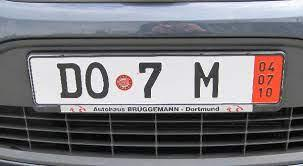7: (136, 60, 165, 100)
D: (55, 61, 84, 99)
M: (193, 59, 223, 100)
O: (85, 60, 112, 101)
